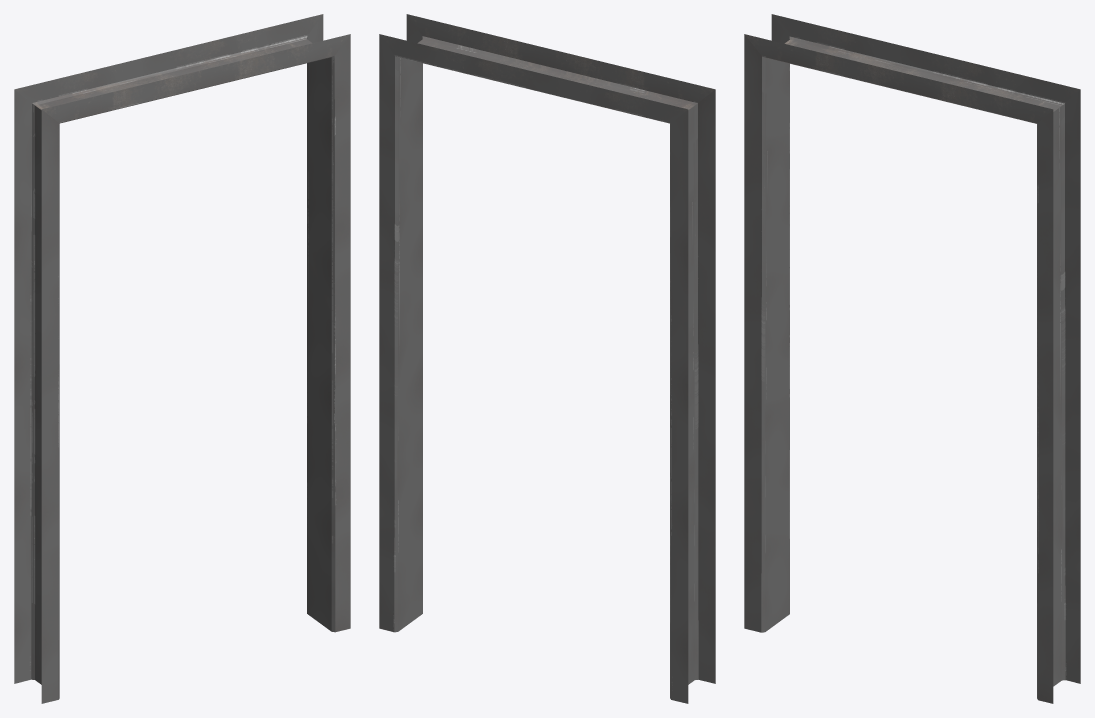
File: SM_GuardTower_LG_GT_Doorframe_01.fbx
3 views of the same model, side by side, from view 1: azimuth 30°, elevation 25°; view 2: azimuth 150°, elevation 25°; view 3: azimuth 330°, elevation 25° (orthographic).
Parts seen in each view (by area): view 1: SM_GuardTower_LG_GT_Doorframe_01; view 2: SM_GuardTower_LG_GT_Doorframe_01; view 3: SM_GuardTower_LG_GT_Doorframe_01.
Boxes of the visible parts, x1=… form: SM_GuardTower_LG_GT_Doorframe_01: x1=14, y1=14, x2=350, y2=703; SM_GuardTower_LG_GT_Doorframe_01: x1=379, y1=14, x2=715, y2=703; SM_GuardTower_LG_GT_Doorframe_01: x1=744, y1=14, x2=1080, y2=703.
Bounding box in the file's own units: 130 × 20 × 239.
1 material, 1 textured.
